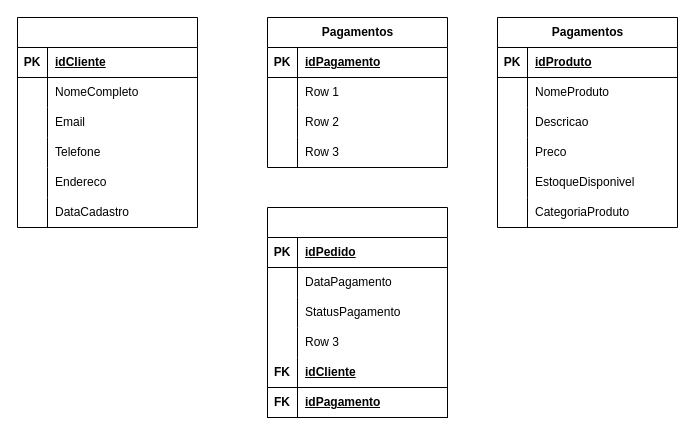
Some shapes in this 695 by 435 pixel diagram are drawn without their labels. The box of each missing label's shape, as (x1, y1, x2, y2) in pixels:
Clientes: (16, 16, 198, 228)
Pedidos: (266, 206, 448, 418)
